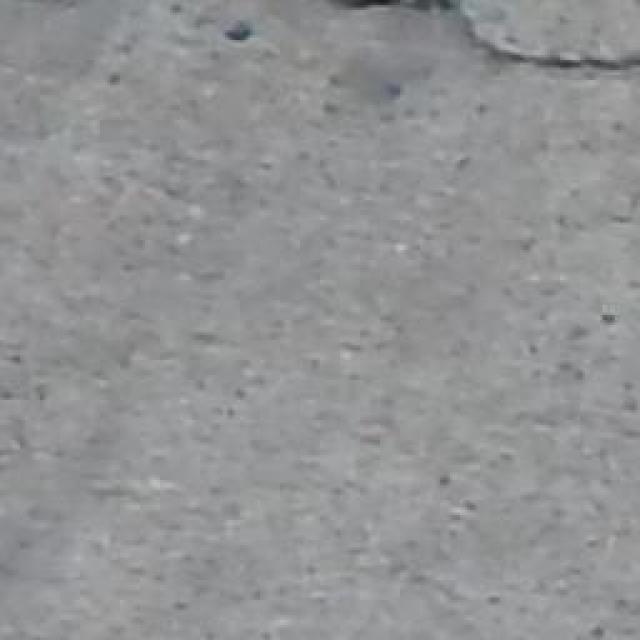concrete-crack: (442, 0, 640, 76)
